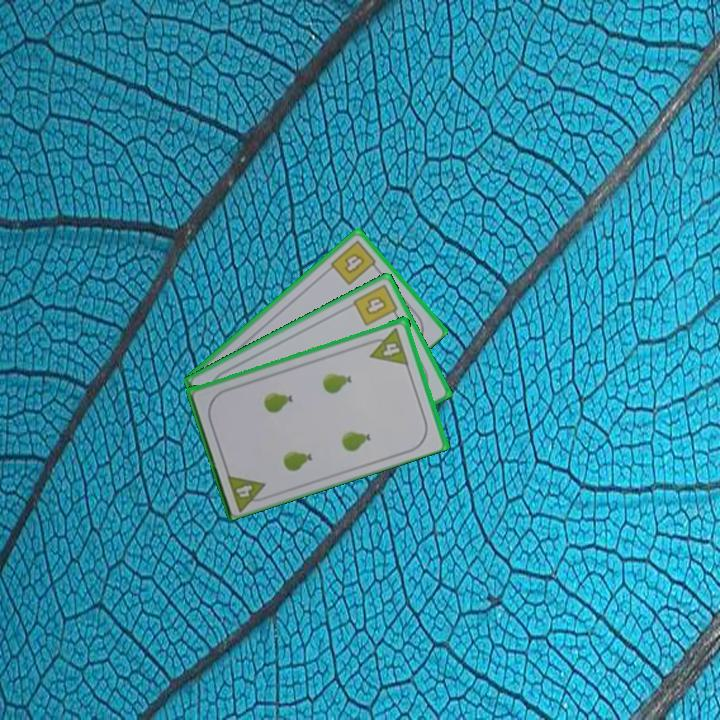4b: (327, 236, 382, 288), (349, 280, 402, 329)
4p: (224, 469, 273, 513), (364, 324, 411, 367)
